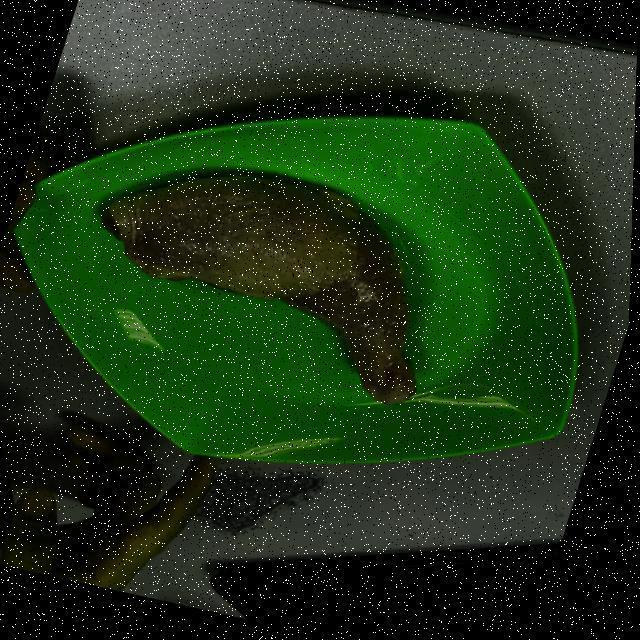quater: (102, 170, 422, 418)
